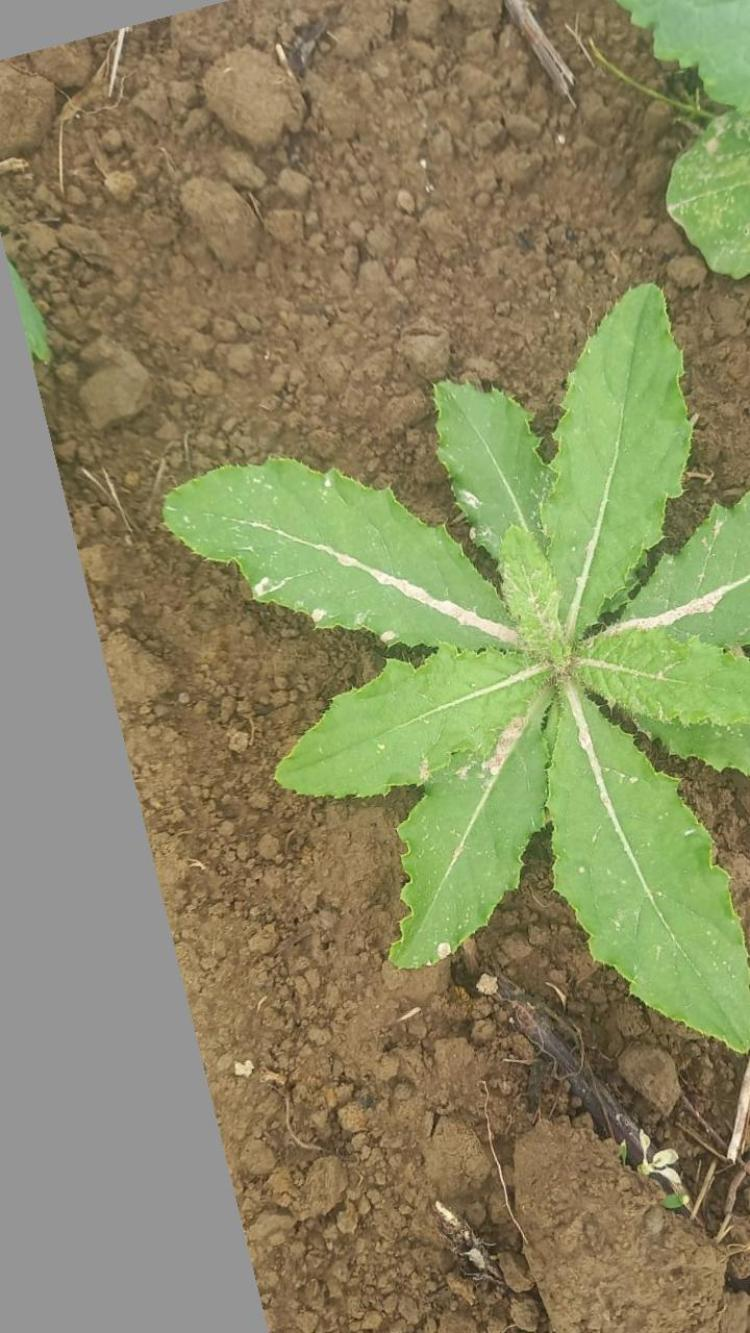osot: (152, 275, 750, 1062)
